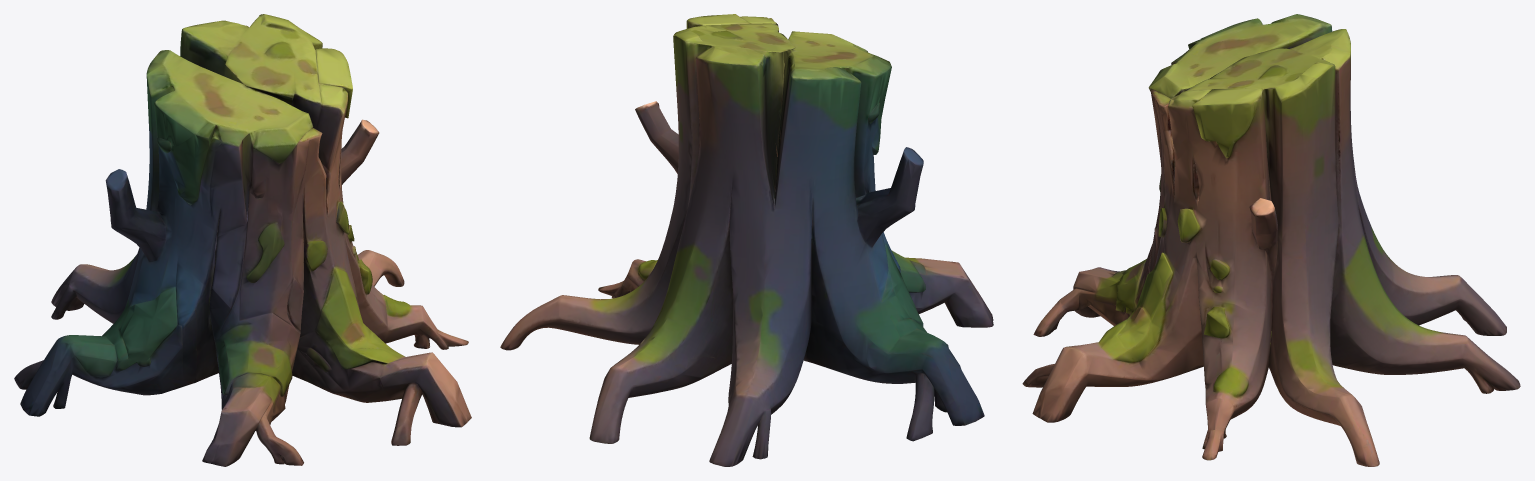
Rendered from stump.opt.glb.
3 renders of one model, left to right at view 1: azimuth 30°, elevation 25°; view 2: azimuth 150°, elevation 25°; view 3: azimuth 270°, elevation 25°, orthographic. The views are drawn at different scales.
Visible parts, largest first — view 1: node_0; view 2: node_0; view 3: node_0.
Part boxes in pixels (x1,y1,x2,y2): node_0: (14,14,471,466); node_0: (500,14,993,466); node_0: (1022,14,1520,466).
Bounding box in the file's own units: 0.9177 × 0.6665 × 0.9272.
1 material, 1 textured.
